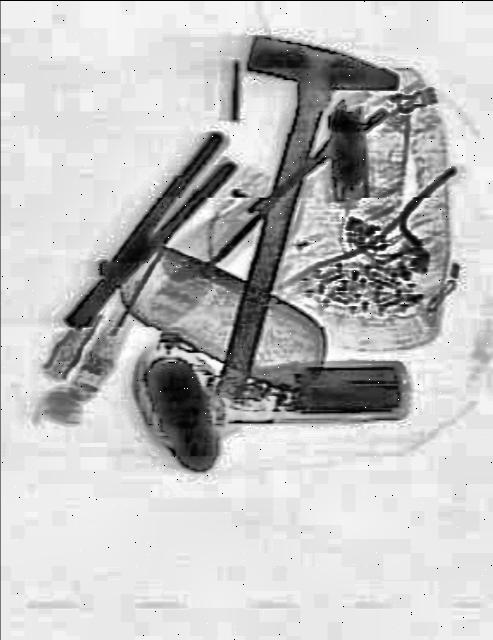Pliers: (60, 127, 244, 339)
